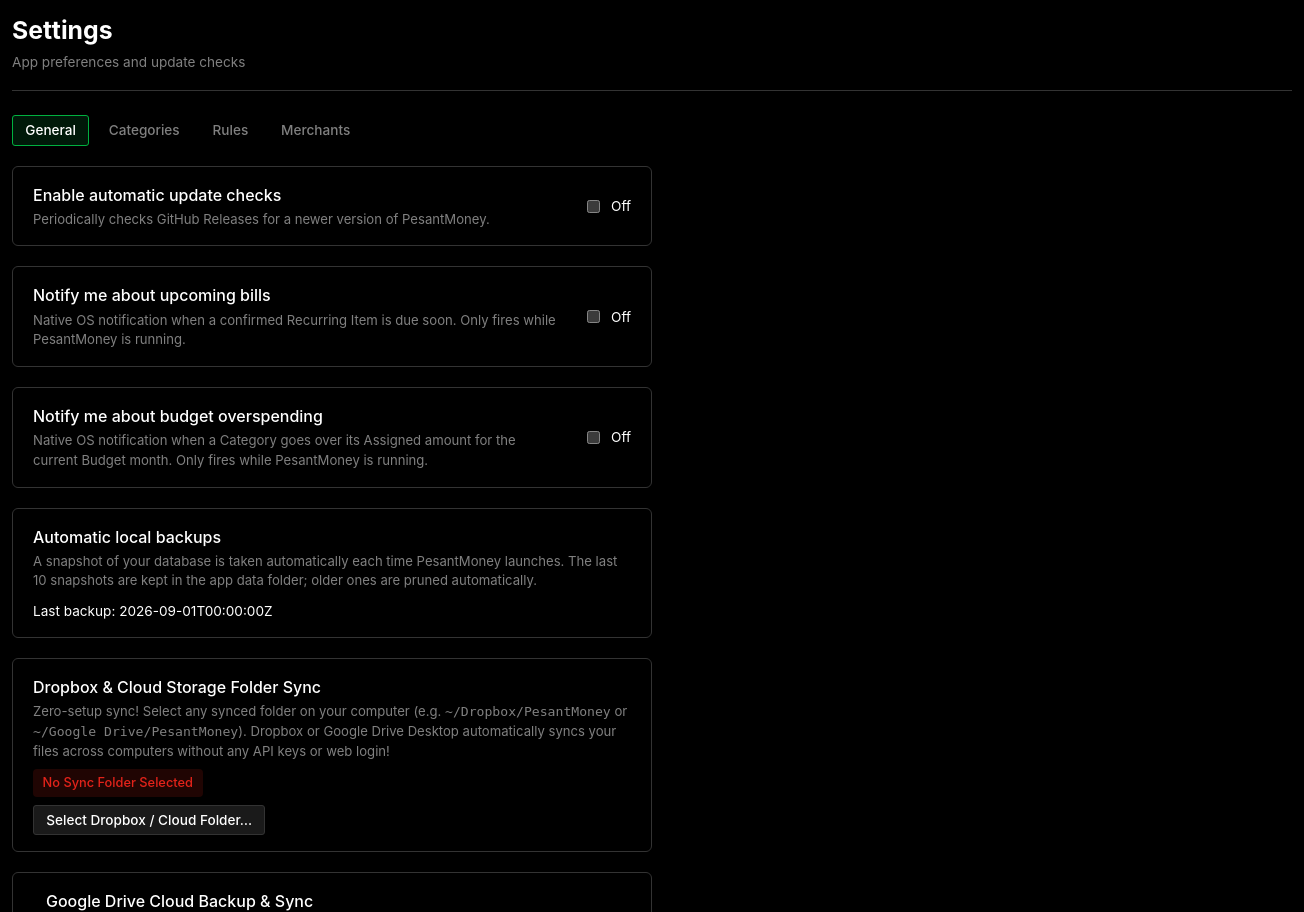
it: SettingsScreen tab strip › switches to the Rules tab and renders RulesScreen content
Check: the text "Enable automatic update checks" is shown, box top-left (33, 185), bottom-right (281, 205)
Click the tab "Rules" at (230, 130), box top-left (199, 115), bottom-right (262, 146)
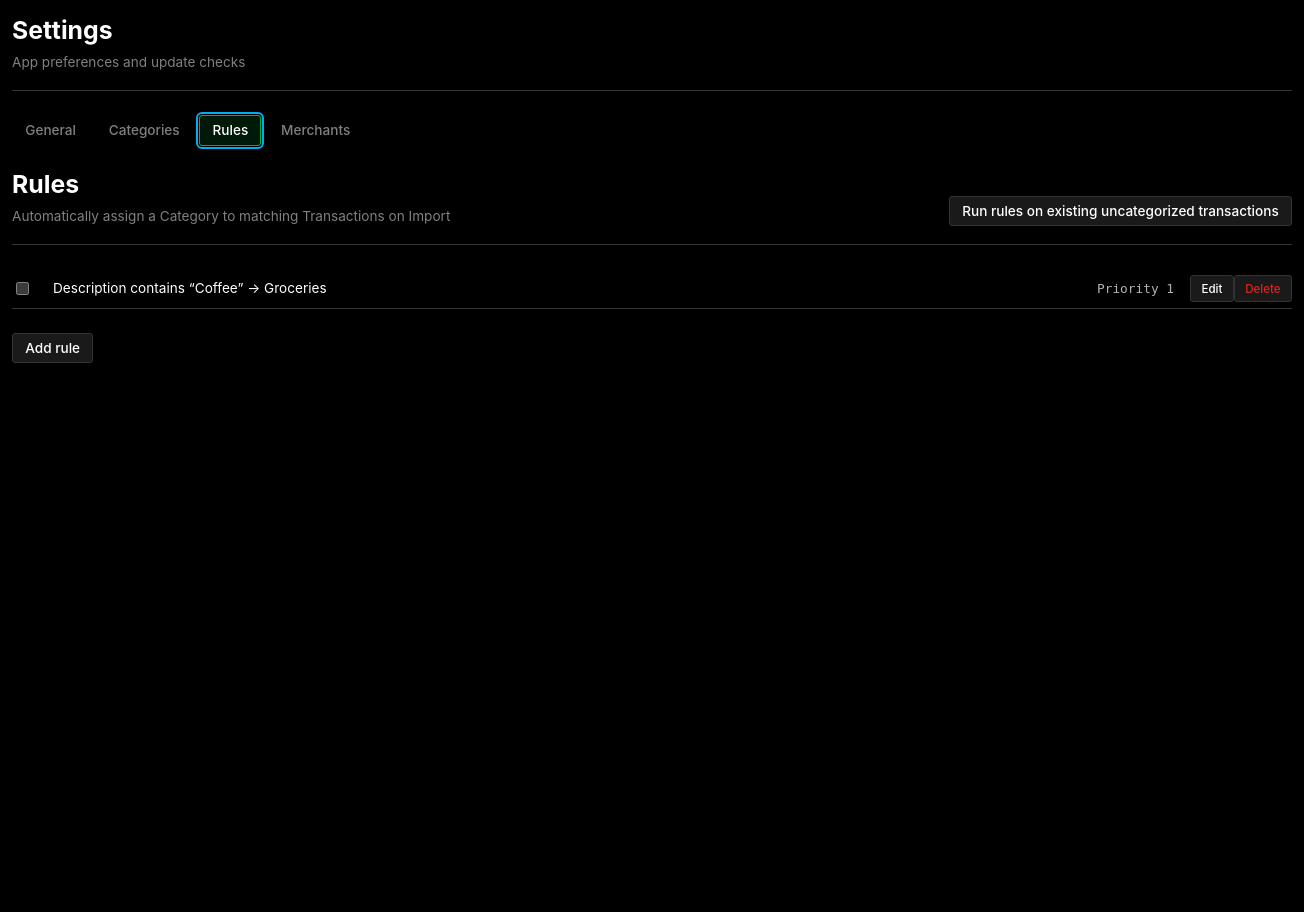
Check: the text "Description contains “Coffee” → Groceries" is shown, box top-left (53, 280), bottom-right (327, 296)
